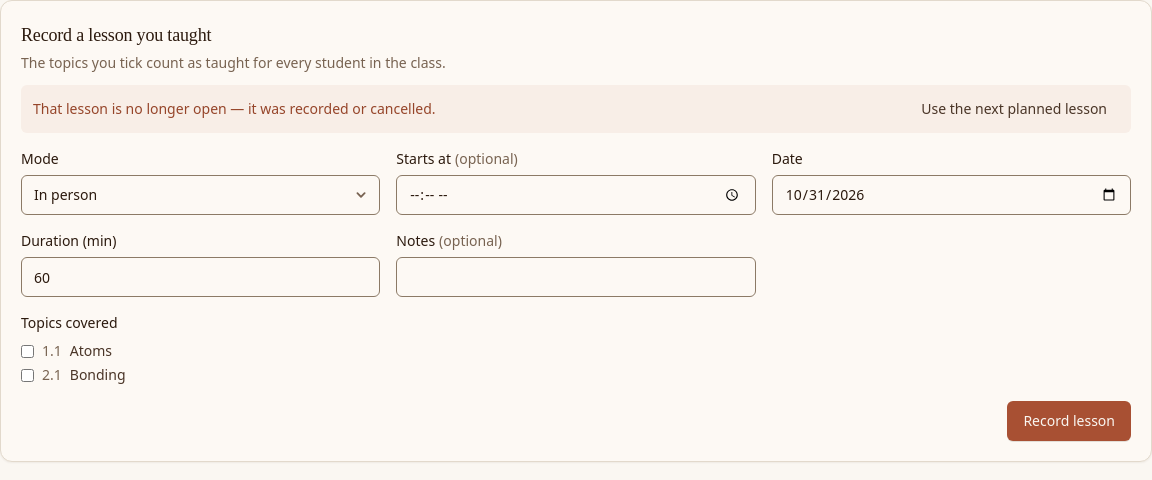
Test: a slot that is no longer open says so and does not borrow another lesson's topics
This screenshot has width=1152, height=480.
Expected: the text "no longer open — it was recorded or cancelled" is shown, [33,99,436,118]
Expected: the checkbox labelled "1.1 Atoms" is not checked, [21,344,34,358]
The tutor may choose the plan's next lesson instead.
Click the button "Use the next planned lesson" at (1014, 109), box [909,93,1119,125]
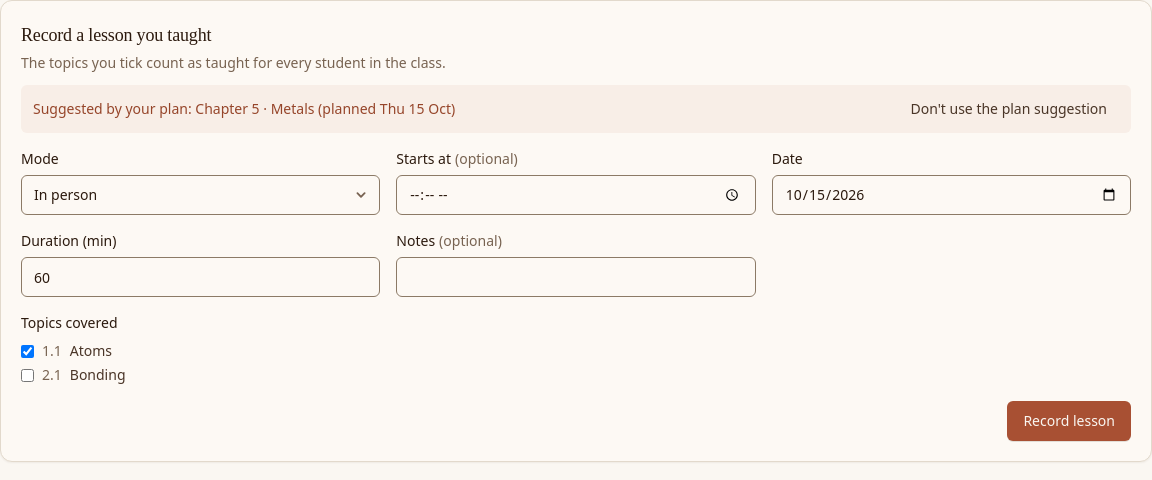
Expected: the checkbox labelled "1.1 Atoms" is checked, [21,344,34,358]
